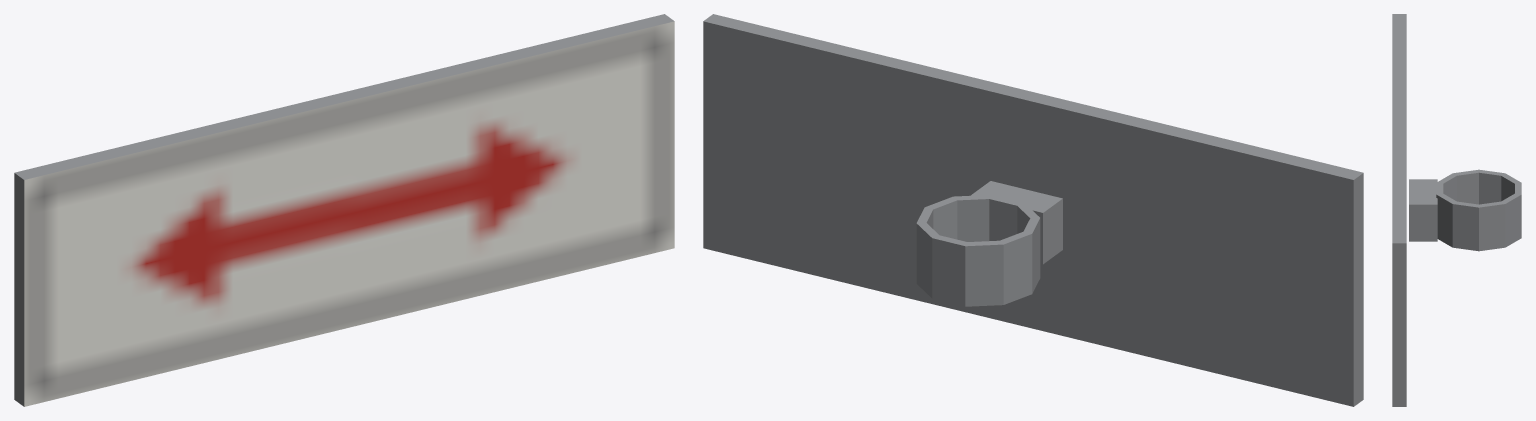
File: SM_Street_SignSub_ArrowLR_01.fbx
The picture shows the model from 3 angles, left to right: view 1: azimuth 30°, elevation 25°; view 2: azimuth 150°, elevation 25°; view 3: azimuth 270°, elevation 25°; orthographic projection. The views are drawn at different scales.
Parts seen in each view (by area): view 1: SM_Street_SignSub_ArrowLR_01; view 2: SM_Street_SignSub_ArrowLR_01; view 3: SM_Street_SignSub_ArrowLR_01.
Part boxes in pixels (x1,y1,x2,y2): SM_Street_SignSub_ArrowLR_01: (14, 14, 674, 406); SM_Street_SignSub_ArrowLR_01: (703, 14, 1363, 406); SM_Street_SignSub_ArrowLR_01: (1392, 14, 1521, 406).
Size of the model in its own units: 0.45 by 0.15 by 0.1074.
1 material, 1 textured.
